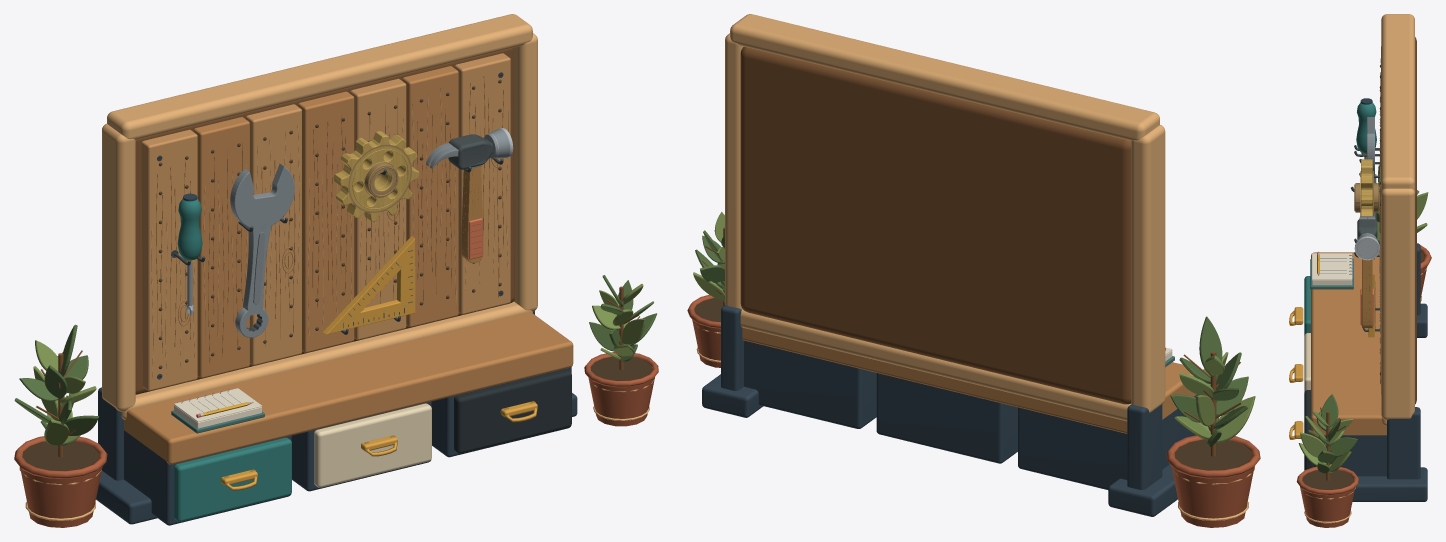
Rendered from workshop-tool-rack-final.glb.
3 views of the same model, side by side, from view 1: azimuth 30°, elevation 25°; view 2: azimuth 150°, elevation 25°; view 3: azimuth 270°, elevation 25° (orthographic). The views are drawn at different scales.
Parts seen in each view (by area): view 1: timber, plank, Refined_Frame_Top, navy, Refined_Frame_Side_-069, cream, teal, Refined_Grey_Drawer, Refined_Frame_Side_069, grain, Refined_Frame_Bottom, brass_2 (+13 smaller); view 2: darkWood, navy, Refined_Frame_Top, Refined_Frame_Side_-069, Refined_Frame_Bottom, timber, pot, Refined_Frame_Side_069, soil, pot_1, Leaf_8, Leaf_1; view 3: timber, Refined_Frame_Side_069, navy, Refined_Frame_Top, pot_1, brass_2, Notebook_element_3, soil_1, Wood_Handle, darkWood, Refined_Original_Yellow_Handles, Teal_Handle (+17 smaller).
Part boxes in pixels (x1,y1,x2,y2): timber: [124, 66, 573, 464]; plank: [141, 53, 510, 390]; Refined_Frame_Top: [107, 14, 532, 139]; navy: [96, 311, 577, 525]; Refined_Frame_Side_-069: [102, 123, 135, 411]; cream: [314, 403, 431, 487]; teal: [174, 437, 291, 521]; Refined_Grey_Drawer: [454, 369, 571, 453]; Refined_Frame_Side_069: [513, 33, 537, 311]; grain: [156, 76, 503, 363]; Refined_Frame_Bottom: [121, 301, 532, 419]; brass_2: [333, 131, 419, 221]; darkWood: [740, 46, 1131, 404]; navy: [702, 305, 1198, 516]; Refined_Frame_Top: [730, 14, 1159, 140]; Refined_Frame_Side_-069: [1131, 125, 1165, 412]; Refined_Frame_Bottom: [740, 309, 1131, 421]; timber: [742, 327, 1196, 433]; pot: [1166, 435, 1260, 527]; Refined_Frame_Side_069: [725, 33, 743, 309]; soil: [1174, 439, 1252, 470]; pot_1: [687, 294, 720, 367]; Leaf_8: [1199, 316, 1222, 377]; Leaf_1: [1216, 396, 1255, 442]; timber: [1311, 68, 1386, 435]; Refined_Frame_Side_069: [1381, 188, 1414, 420]; navy: [1314, 243, 1427, 501]; Refined_Frame_Top: [1381, 14, 1414, 189]; pot_1: [1296, 466, 1359, 527]; brass_2: [1354, 159, 1379, 216]; Notebook_element_3: [1312, 253, 1352, 280]; soil_1: [1302, 470, 1353, 489]; Wood_Handle: [1362, 259, 1372, 328]; darkWood: [1414, 37, 1416, 404]; Refined_Original_Yellow_Handles: [1289, 307, 1303, 439]; Teal_Handle: [1356, 102, 1376, 153].
Bounding box in the file's own units: 2.04 × 1.25 × 0.5082.
Materials: 61 (1 with a texture image).
